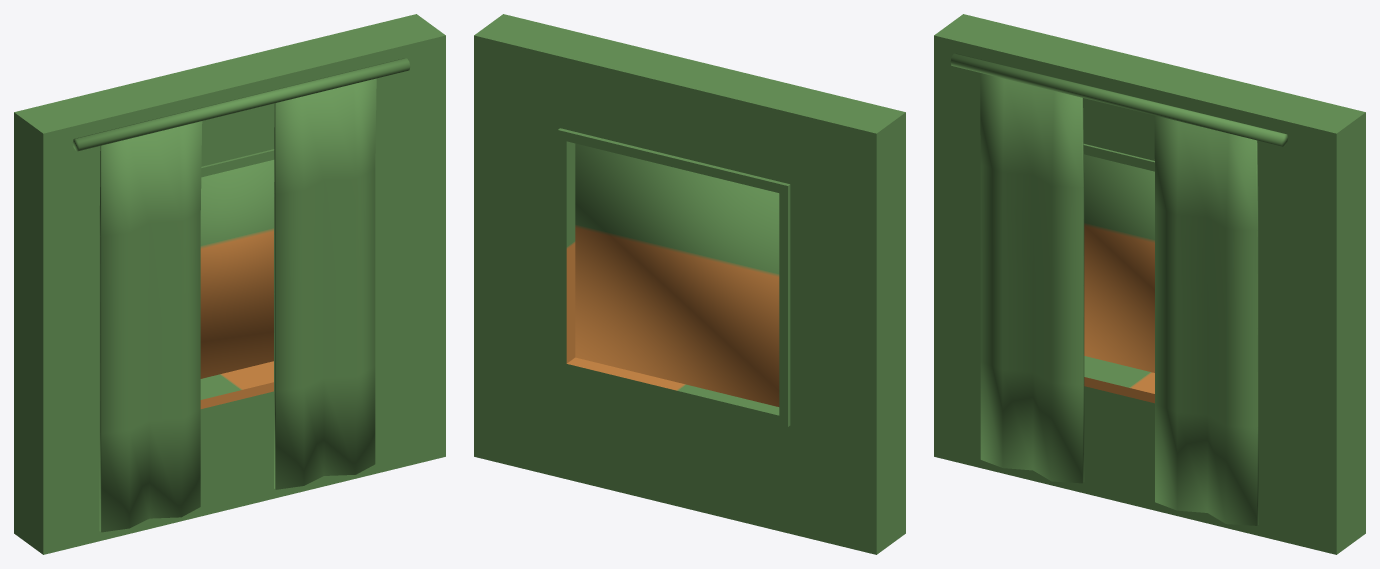
Rendered from wallpiece1_window 1.fbx.
3 renders of one model, left to right at view 1: azimuth 30°, elevation 25°; view 2: azimuth 150°, elevation 25°; view 3: azimuth 330°, elevation 25°, orthographic.
Visible parts, largest first — view 1: wallpiece_window; view 2: wallpiece_window; view 3: wallpiece_window.
Boxes of the visible parts, <box> form: wallpiece_window: <box>14,14,445,554</box>; wallpiece_window: <box>474,14,905,554</box>; wallpiece_window: <box>934,14,1365,554</box>.
Size of the model in its own units: 800 by 800 by 145.
1 material, 1 textured.
